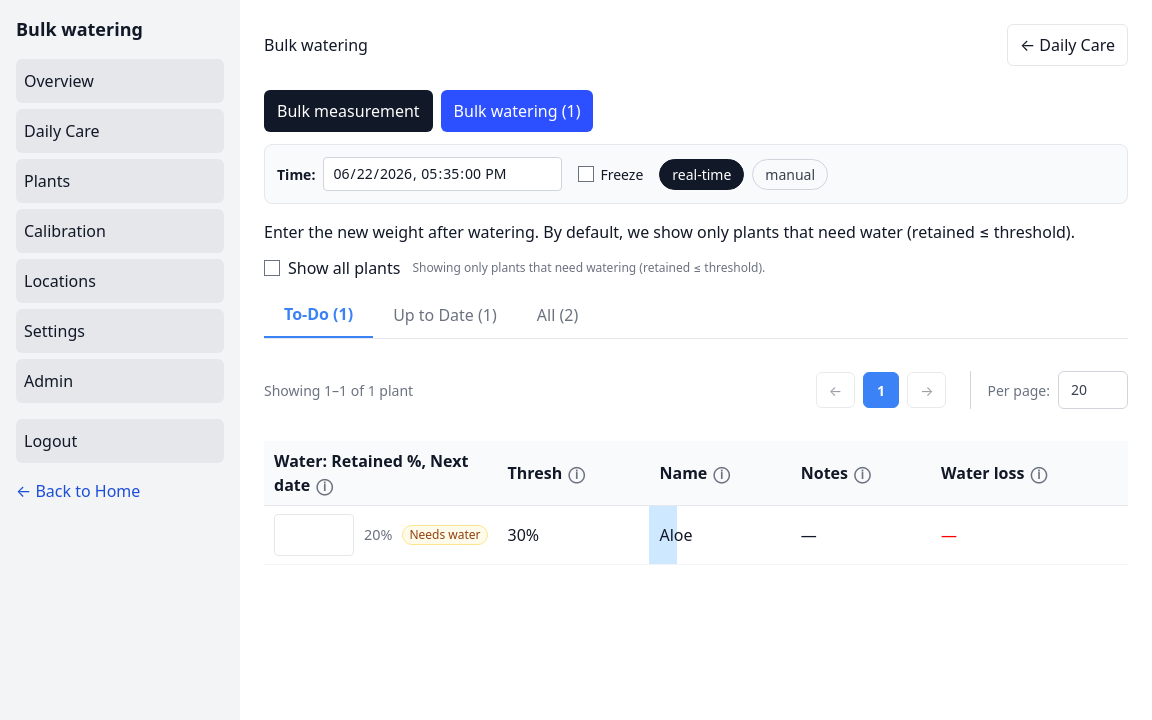
Scenario: pages/BulkWatering › toggling "Show all plants" checkbox changes visibility
The width and height of the screenshot is (1152, 720).
Expected: the link "Aloe" is shown, [660,524,693,546]
Expected: the text "Monstera" is not shown
Switch to "All" tab
What coordinates should you click on to do the following:
click the button "All (2)"
I would click on:
 (558, 315)
Its box is [517,292,598,338].
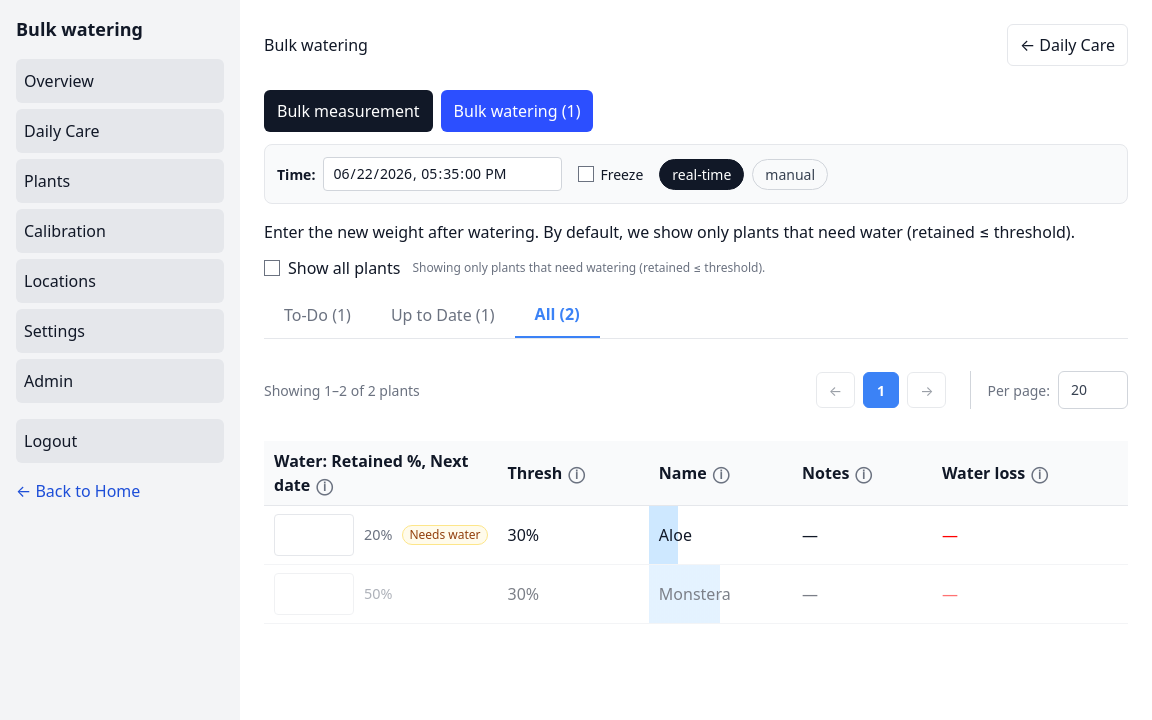
Expected: the link "Aloe" is shown, [659,524,692,546]
Result: the link "Monstera" is shown at [659,583,731,605]
What coordinates should you click on to do the following:
click the button "To-Do (1)"
I would click on:
 (317, 315)
Its box is [264,292,371,338].
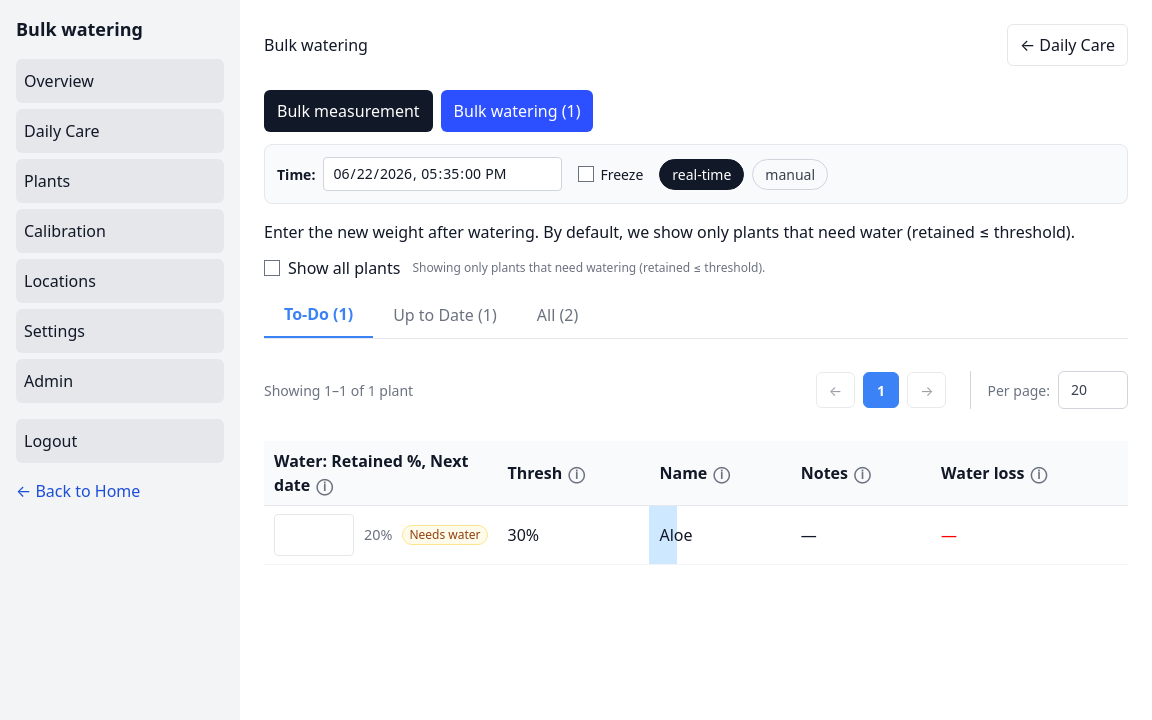
Expected: the link "Aloe" is shown, [660,524,693,546]
Result: the link "Monstera" is gone
